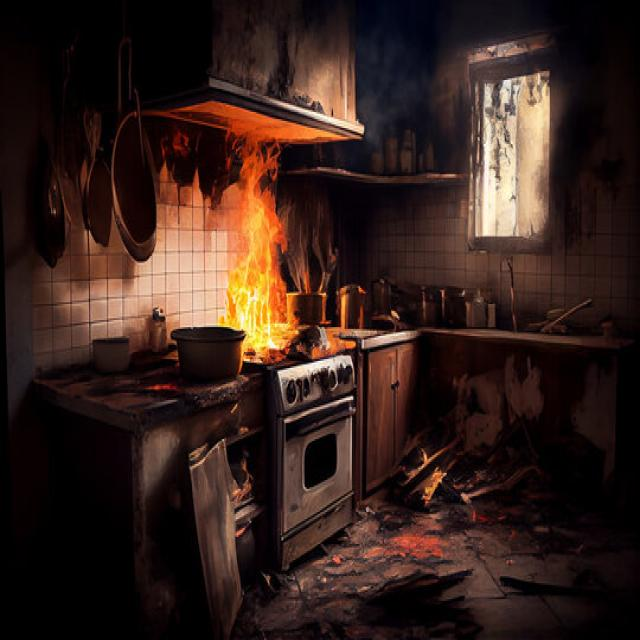fire: (226, 130, 305, 363)
